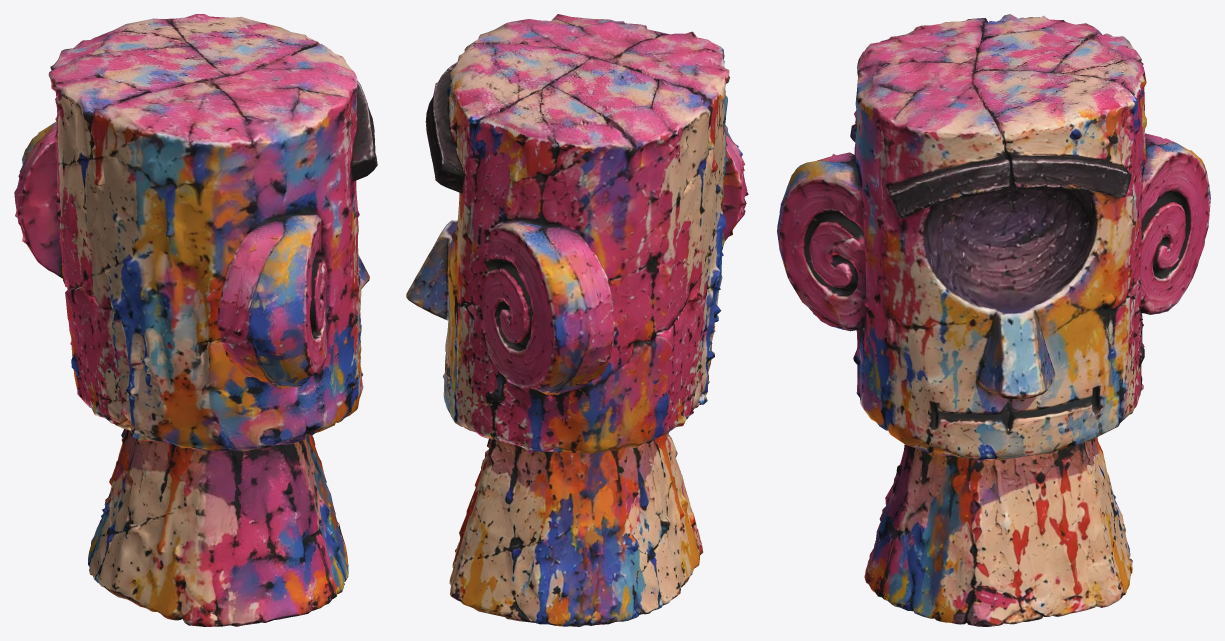
The model's file is statue2_head.glb.
3 views of the same model, side by side, from view 1: azimuth 30°, elevation 25°; view 2: azimuth 150°, elevation 25°; view 3: azimuth 270°, elevation 25° (orthographic).
Parts seen in each view (by area): view 1: statue2_head; view 2: statue2_head; view 3: statue2_head.
Boxes of the visible parts, box(x1,y1,x2,y2) form: statue2_head: box(14, 14, 377, 626); statue2_head: box(406, 14, 748, 626); statue2_head: box(777, 14, 1210, 626).
Size of the model in its own units: 1.78 by 3 by 2.33.
Materials: 1 (1 with a texture image).
